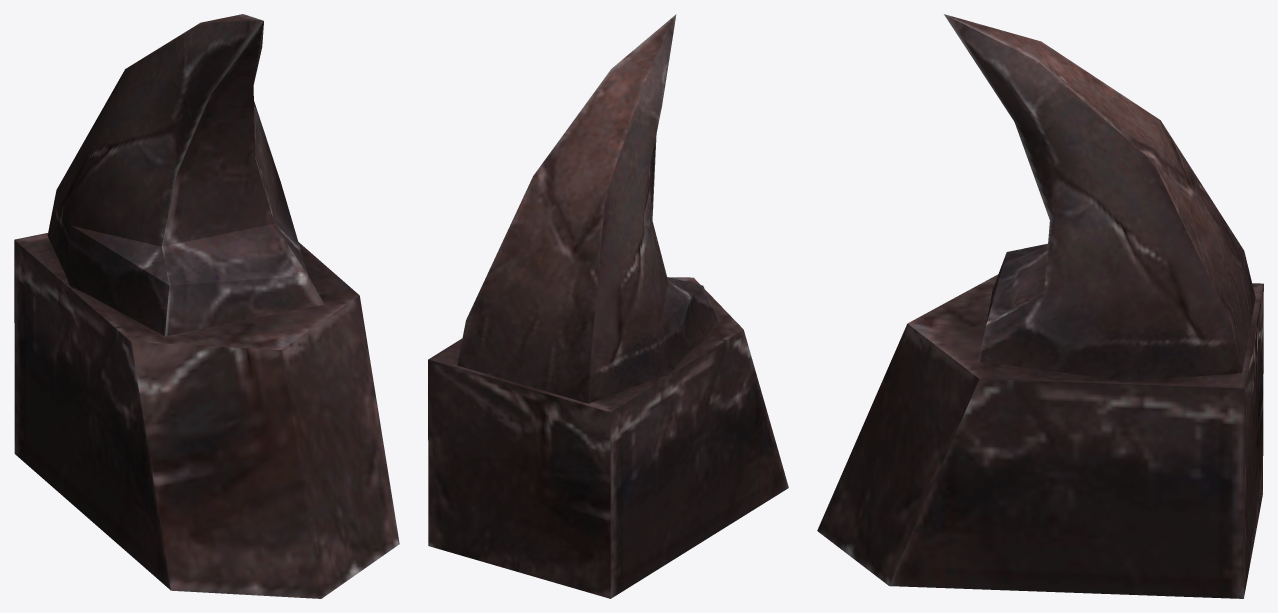
The model's file is hs_jianci_4.FBX.
The picture shows the model from 3 angles, left to right: view 1: azimuth 30°, elevation 25°; view 2: azimuth 150°, elevation 25°; view 3: azimuth 270°, elevation 25°; orthographic projection. The views are drawn at different scales.
Parts seen in each view (by area): view 1: hs_jianci_4; view 2: hs_jianci_4; view 3: hs_jianci_4.
Part boxes in pixels (x1,y1,x2,y2): hs_jianci_4: (14, 14, 399, 598); hs_jianci_4: (428, 14, 788, 598); hs_jianci_4: (817, 14, 1263, 598).
Size of the model in its own units: 3.02 by 6.3 by 4.88.
